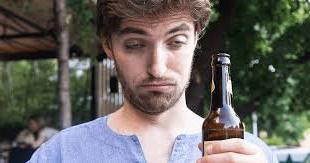Drunk: (118, 13, 192, 111)
